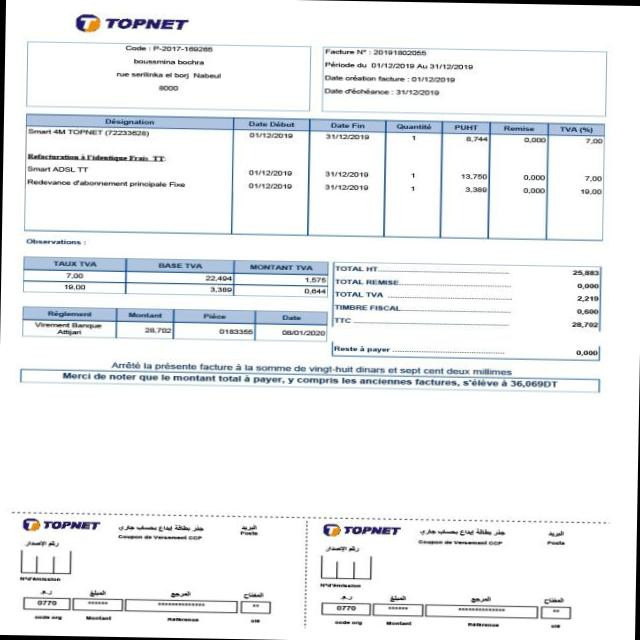customer_address: (107, 68, 227, 94)
customer_name: (130, 55, 207, 68)
due_date: (393, 86, 441, 98)
invoice_date: (407, 72, 456, 84)
invoice_number: (372, 46, 430, 58)
invoice_subtotal: (569, 266, 606, 278)
invoice_total: (567, 317, 605, 332)
item_description: (23, 125, 195, 206)
item_quantity: (396, 132, 426, 228)
item_unit_price: (450, 131, 488, 232)
supplier_name: (101, 10, 197, 37)
tax_amount: (572, 292, 608, 306)
